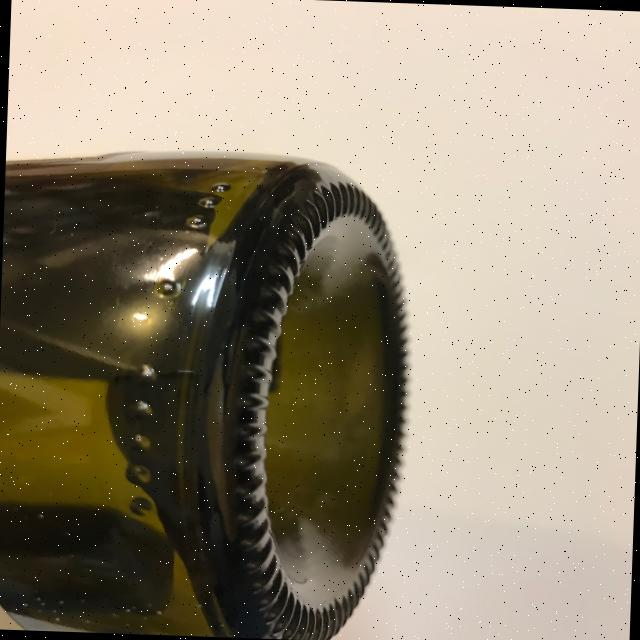glass: (0, 143, 417, 640)
